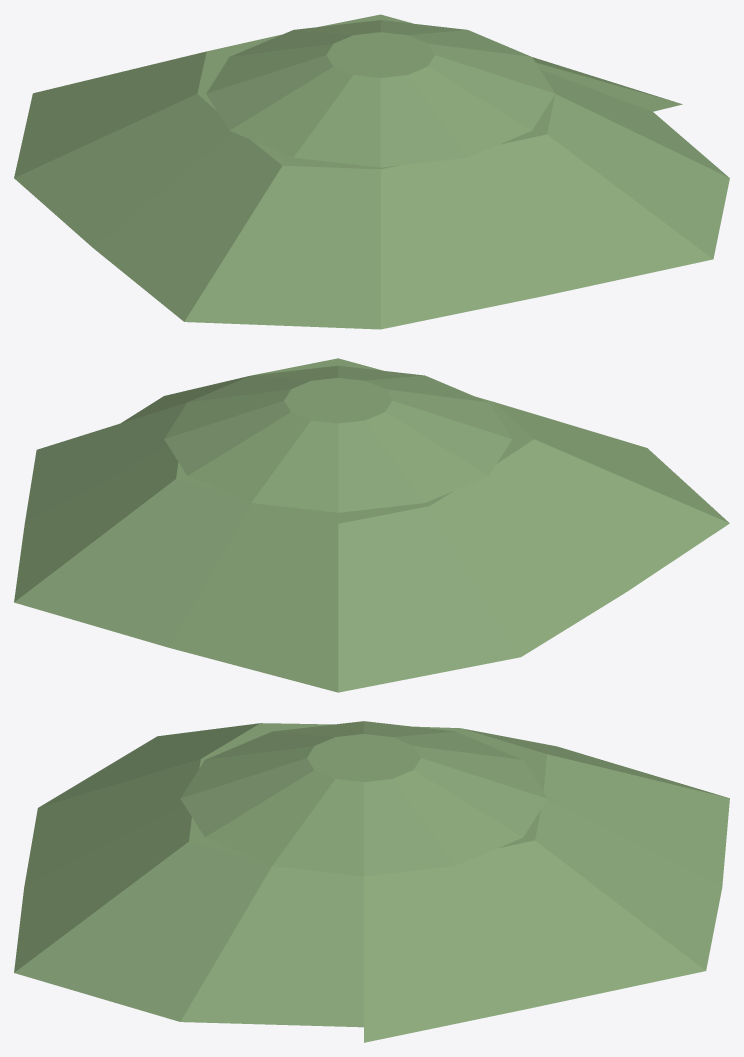
File: hill.gltf
3 renders of one model, top to bottom at view 1: azimuth 30°, elevation 25°; view 2: azimuth 150°, elevation 25°; view 3: azimuth 270°, elevation 25°, orthographic. The views are drawn at different scales.
Parts seen in each view (by area): view 1: wildlands-prop; view 2: wildlands-prop; view 3: wildlands-prop.
Part boxes in pixels (<box>): wildlands-prop: <box>14,14,729,329</box>; wildlands-prop: <box>14,358,729,692</box>; wildlands-prop: <box>14,721,729,1042</box>.
Size of the model in its own units: 17.77 by 3.5 by 17.54.
